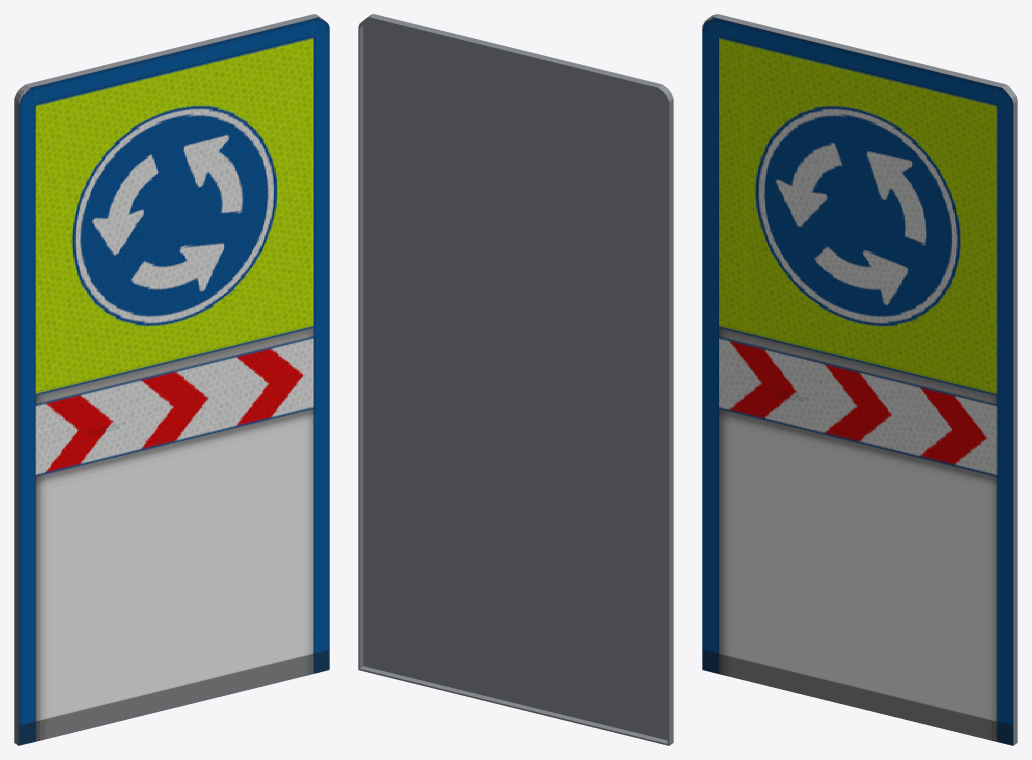
3 views of the same model, side by side, from view 1: azimuth 30°, elevation 25°; view 2: azimuth 150°, elevation 25°; view 3: azimuth 330°, elevation 25° (orthographic).
Parts seen in each view (by area): view 1: cat_8674769983c5a896; view 2: cat_8674769983c5a896; view 3: cat_8674769983c5a896.
Part boxes in pixels (x1,y1,x2,y2): cat_8674769983c5a896: (14,14,329,745); cat_8674769983c5a896: (358,14,673,745); cat_8674769983c5a896: (702,14,1017,745).
Bounding box in the file's own units: 0.6 × 0.015 × 1.21.
Materials: 2 (1 with a texture image).
